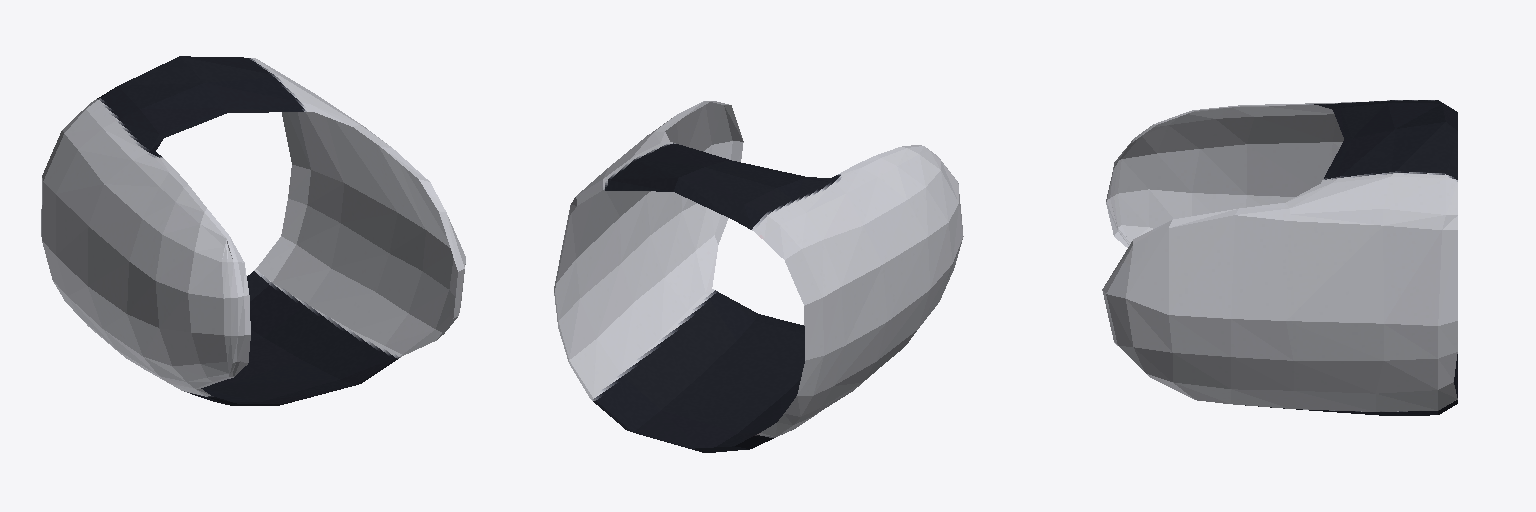
The picture shows the model from 3 angles: view 1: azimuth 30°, elevation 25°; view 2: azimuth 150°, elevation 25°; view 3: azimuth 270°, elevation 25°; orthographic projection.
Parts seen in each view (by area): view 1: R_SHOULDER_R-472-FACES; view 2: R_SHOULDER_R-472-FACES; view 3: R_SHOULDER_R-472-FACES.
Part boxes in pixels (x1,y1,x2,y2): R_SHOULDER_R-472-FACES: (41,56,465,405); R_SHOULDER_R-472-FACES: (554,101,963,452); R_SHOULDER_R-472-FACES: (1102,100,1457,415).
Bounding box in the file's own units: 0.0861 × 0.0776 × 0.091.
1 materials, 1 textured.